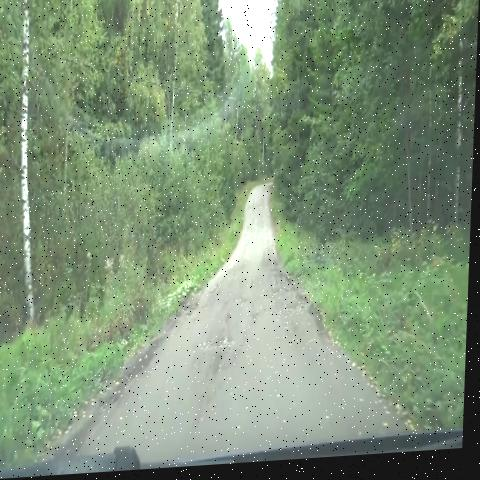pothole: (192, 333, 248, 375), (283, 296, 316, 327), (267, 280, 295, 307), (268, 258, 292, 288), (233, 288, 256, 319)
